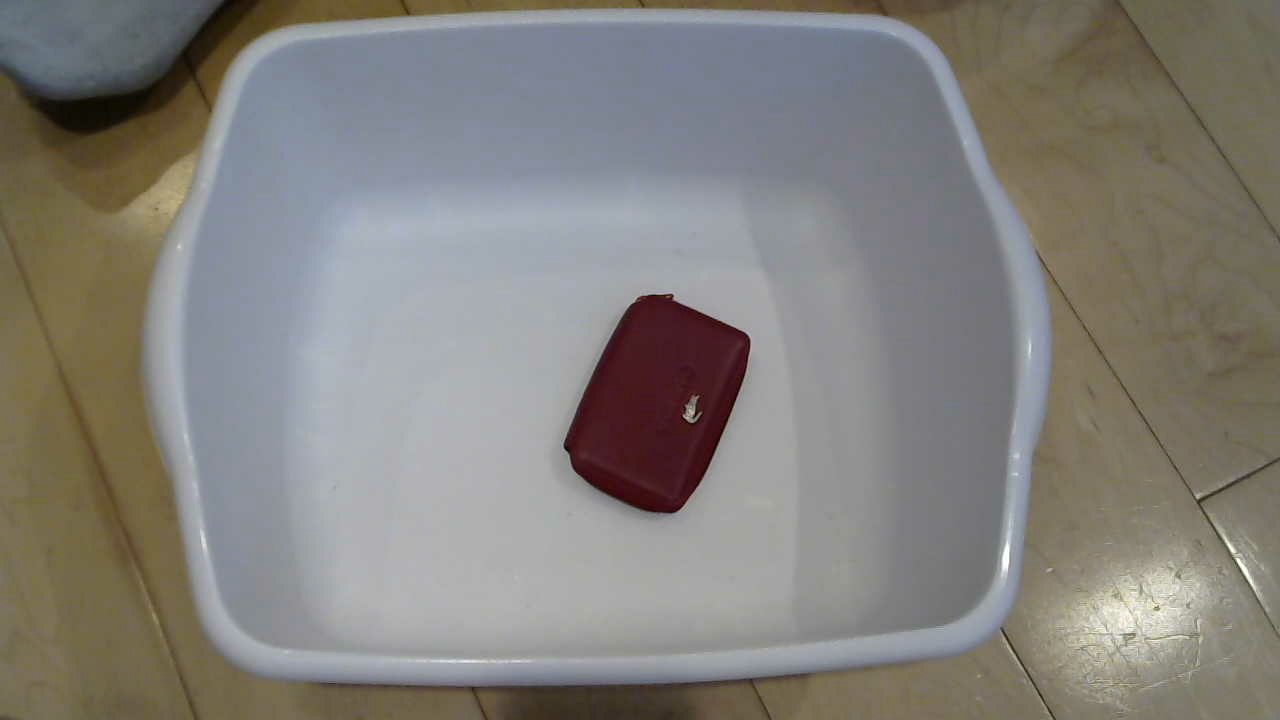wallet: (529, 292, 765, 532)
